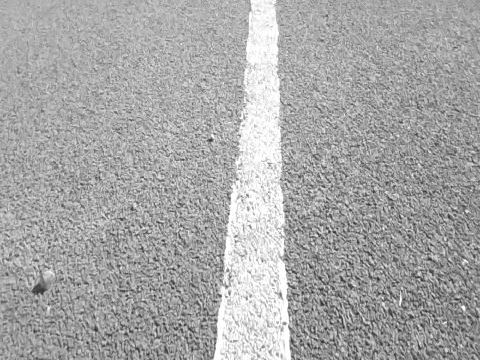Lines: (214, 0, 292, 360)
